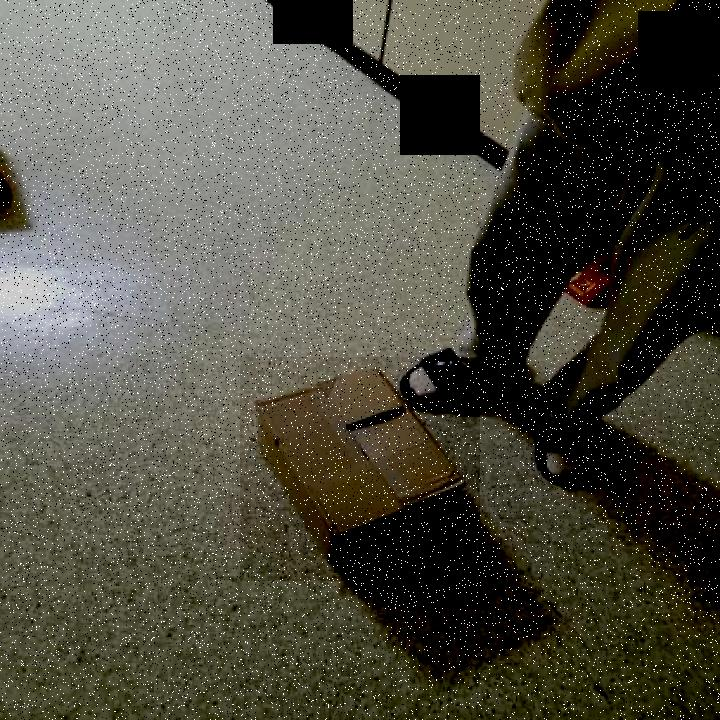box: (240, 357, 480, 581)
